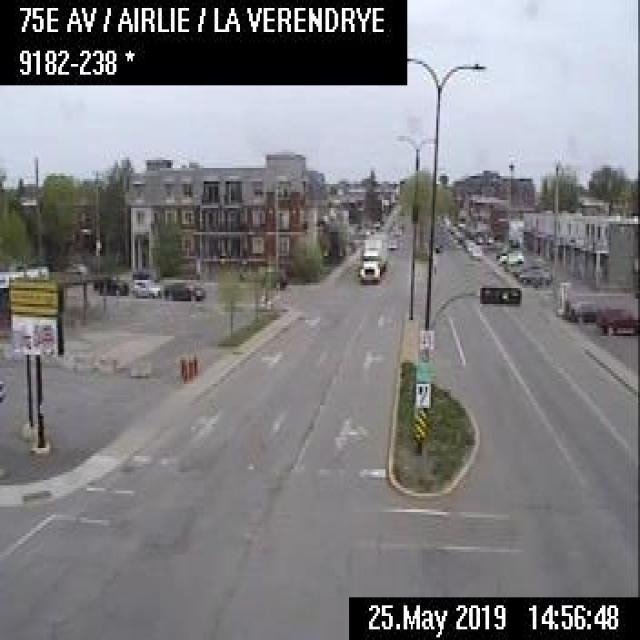construction: (180, 356, 187, 382), (192, 352, 198, 376), (187, 355, 192, 379)
vehicle: (594, 300, 638, 338), (355, 232, 387, 283), (161, 272, 202, 301), (92, 271, 128, 297), (564, 296, 600, 321), (130, 276, 162, 300), (518, 264, 552, 284), (497, 248, 522, 262), (384, 234, 398, 248), (470, 242, 482, 258)
